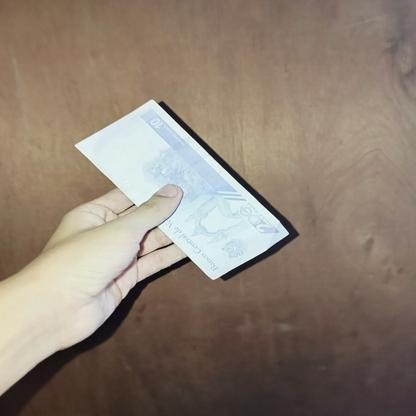ten-back-vef: (74, 100, 290, 280)
